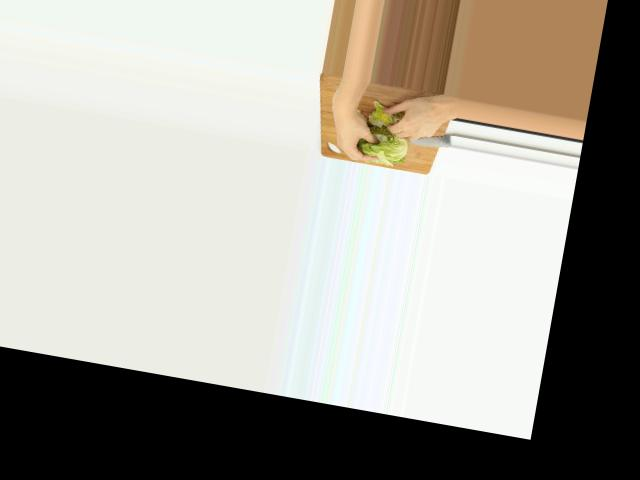lettuce: (357, 126, 410, 167)
